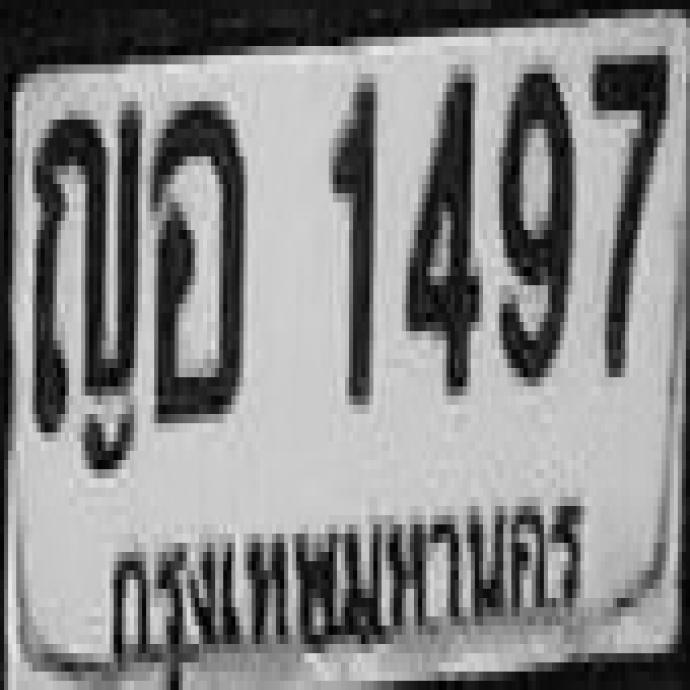1: (327, 71, 373, 398)
4: (401, 61, 475, 389)
7: (588, 45, 664, 368)
9: (495, 57, 569, 378)
A13: (29, 96, 147, 487)
A43: (148, 94, 241, 416)
BKK: (100, 477, 593, 663)
